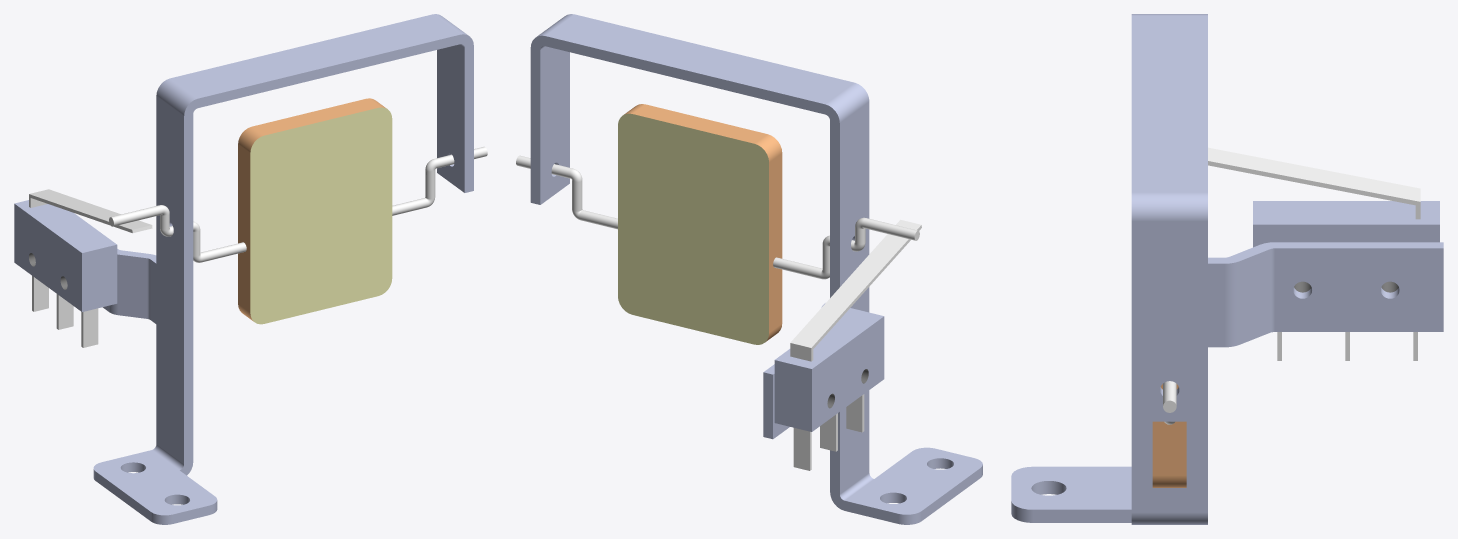
File: Spinner Assembly Stern (511-5113-00).fbx
3 renders of one model, left to right at view 1: azimuth 30°, elevation 25°; view 2: azimuth 150°, elevation 25°; view 3: azimuth 270°, elevation 25°, orthographic. The views are drawn at different scales.
Parts seen in each view (by area): view 1: spinner_bracket, spinner, switch; view 2: spinner, spinner_bracket, switch; view 3: spinner_bracket, switch, spinner.
Boxes of the visible parts, left/top/right/bottom form: spinner_bracket: left=93, top=14, right=473, bottom=524; spinner: left=109, top=98, right=487, bottom=324; switch: left=14, top=189, right=152, bottom=347; spinner: left=516, top=104, right=919, bottom=344; spinner_bracket: left=530, top=14, right=982, bottom=524; switch: left=774, top=219, right=921, bottom=470; spinner_bracket: left=1011, top=14, right=1443, bottom=524; switch: left=1208, top=147, right=1439, bottom=360; spinner: left=1152, top=381, right=1186, bottom=487.
Size of the model in its own units: 6.39 by 5.99 by 4.52.
